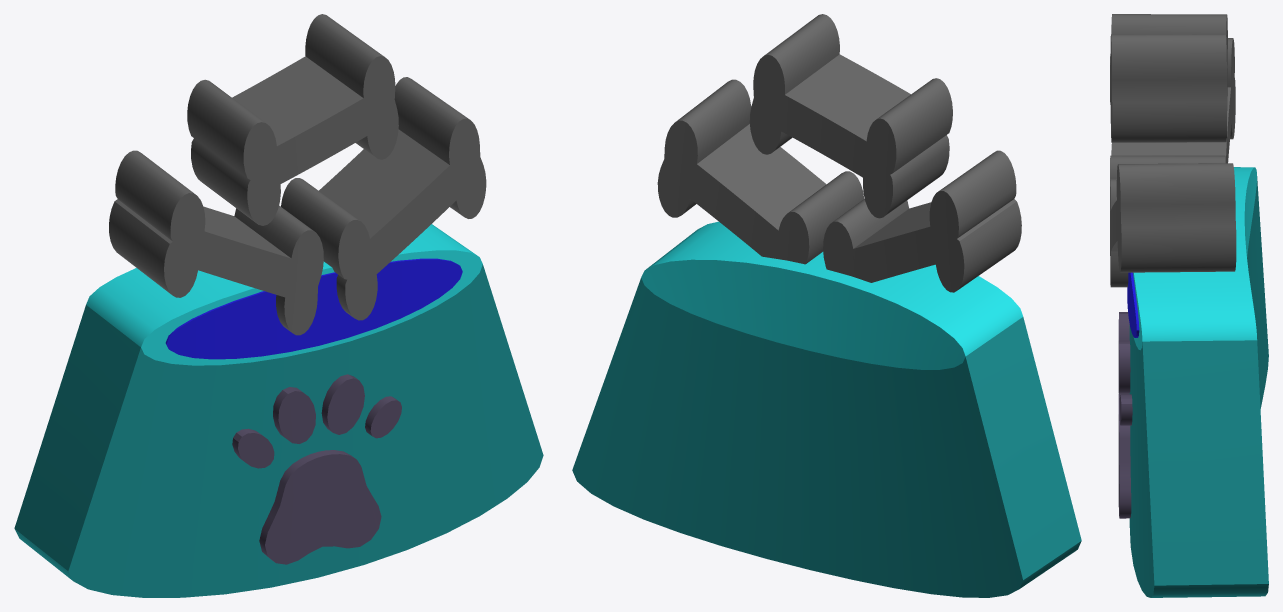
Rendered from Pets_Dish_Outer.fbx.
3 views of the same model, side by side, from view 1: azimuth 30°, elevation 25°; view 2: azimuth 150°, elevation 25°; view 3: azimuth 270°, elevation 25° (orthographic). The views are drawn at different scales.
Visible parts, largest first — view 1: Pets_Dish_Outer; view 2: Pets_Dish_Outer; view 3: Pets_Dish_Outer.
Part boxes in pixels (bbox=[...]): Pets_Dish_Outer: bbox=[14, 14, 543, 597]; Pets_Dish_Outer: bbox=[572, 14, 1081, 597]; Pets_Dish_Outer: bbox=[1110, 14, 1268, 597].
Size of the model in its own units: 32.9 by 34.1 by 9.55.
